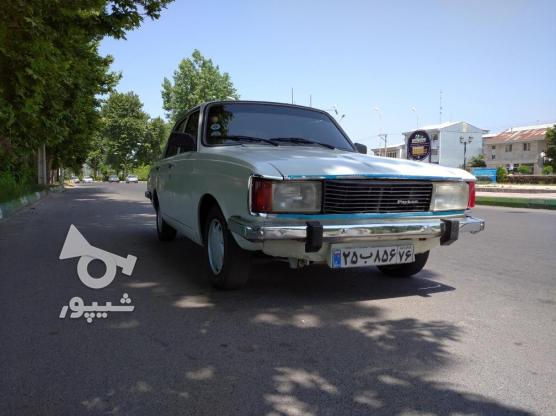car: (330, 242, 415, 272)
